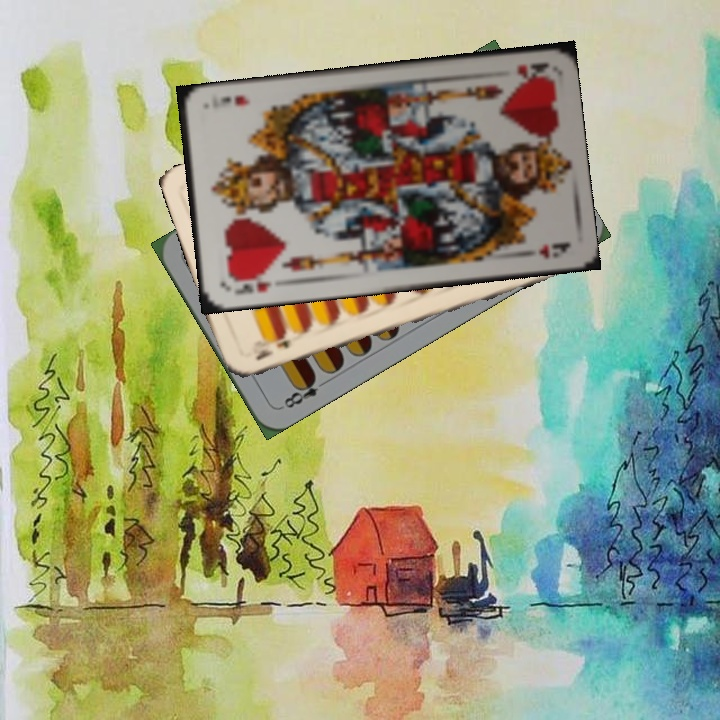E10: (251, 335, 293, 363)
E8: (276, 370, 330, 412)
HK: (230, 276, 275, 297), (513, 58, 552, 81)
